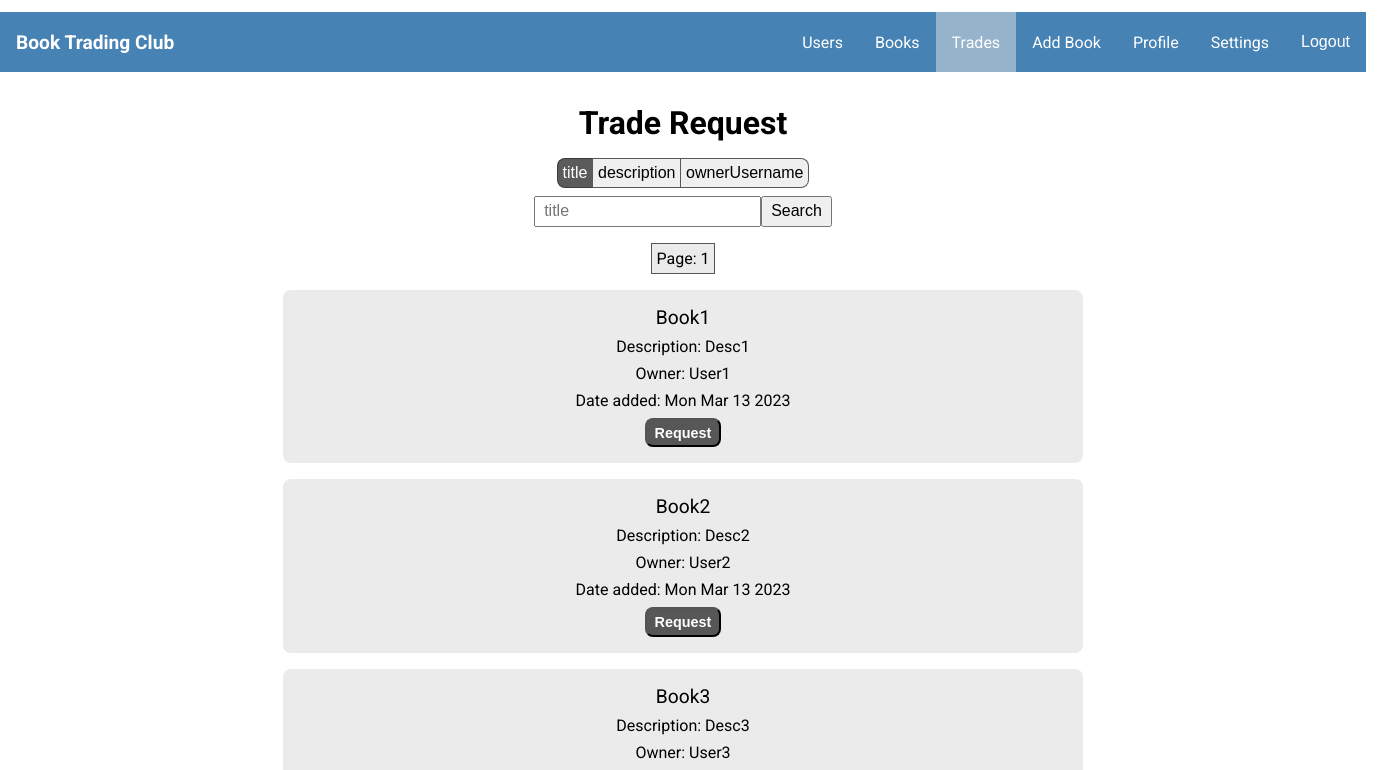
Scenario: ----- <Request/> ----- › correctly submits request
The image size is (1378, 770).
Click the button "Request" below "Book1".
click(683, 433)  # box [645,418,721,447]
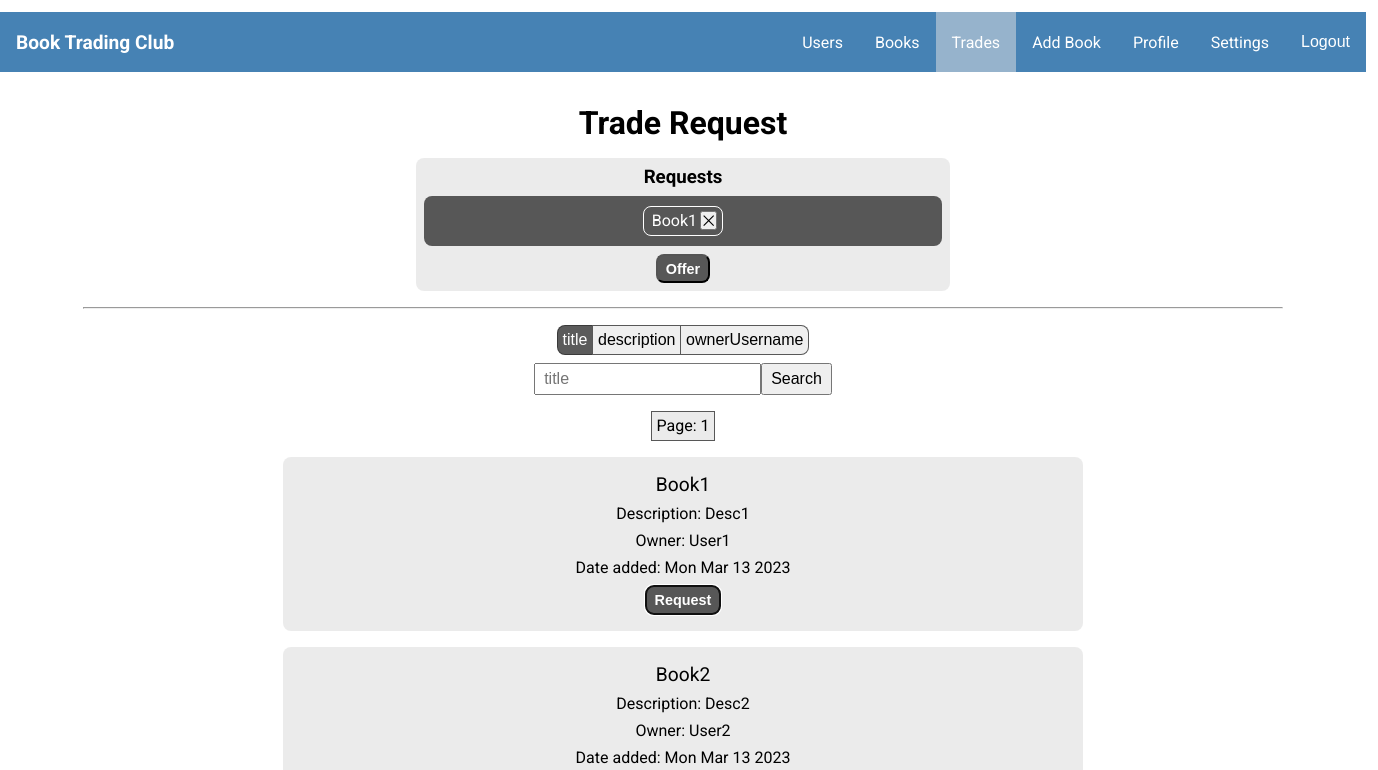
expect the button "Offer" is shown: met
Click the button "Offer".
click(683, 269)  # box [656,254,710,283]
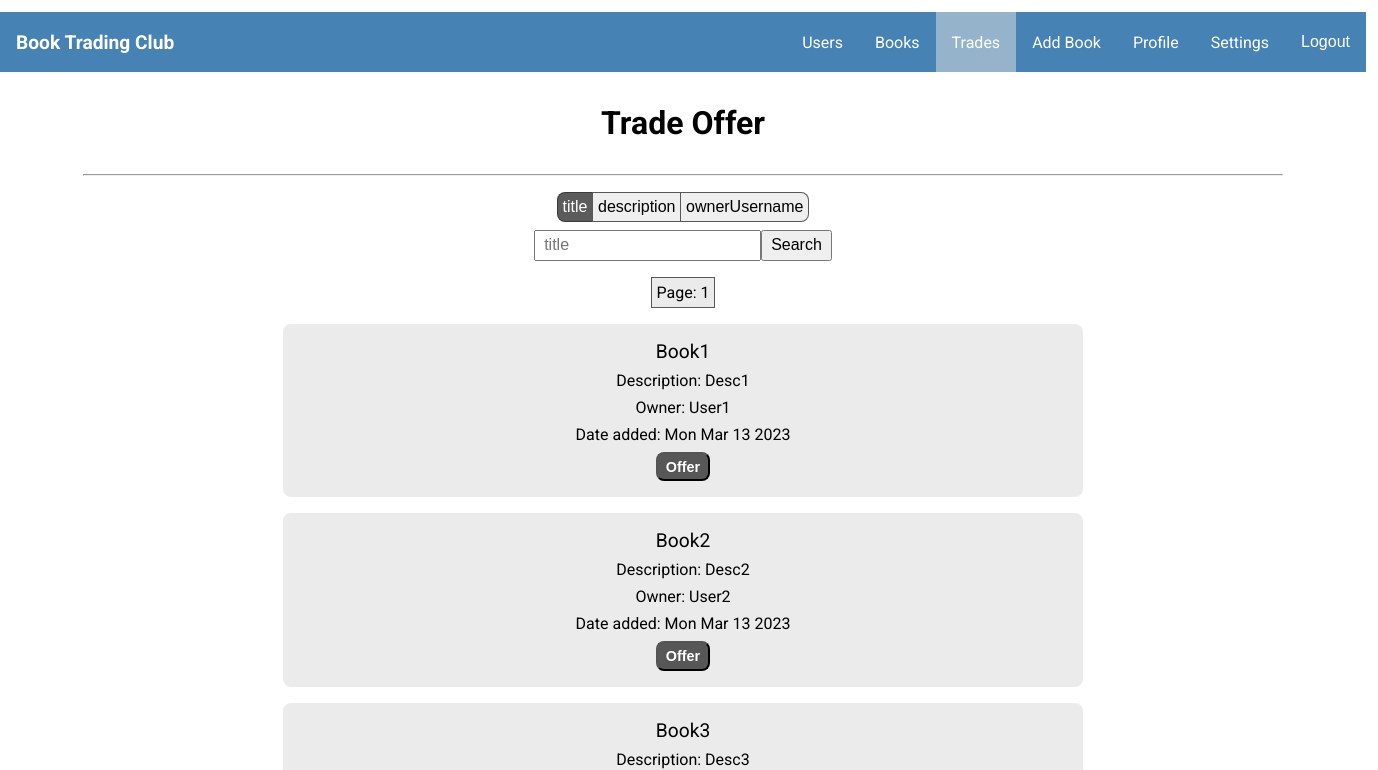
expect the heading "Trade Offer" is shown: met, box [601,104,765,142]
